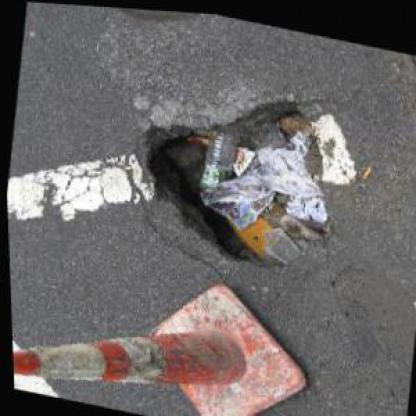pothole: (122, 67, 349, 280)
